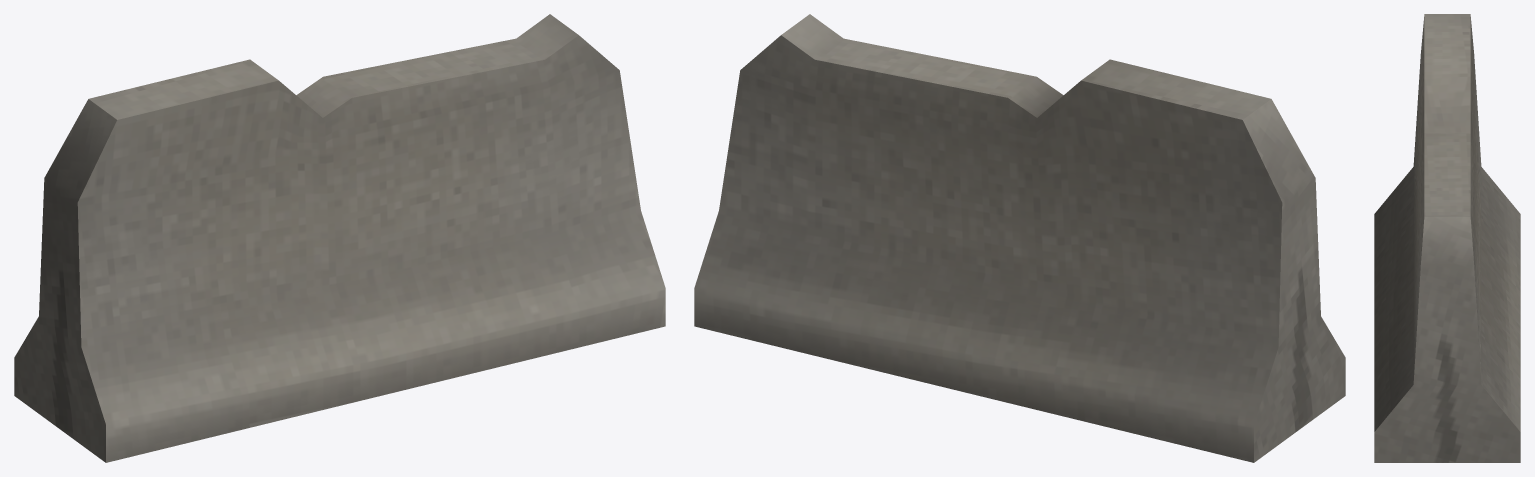
Rendered from jerseybarrier_3.fbx.
3 views of the same model, side by side, from view 1: azimuth 30°, elevation 25°; view 2: azimuth 150°, elevation 25°; view 3: azimuth 270°, elevation 25° (orthographic). The views are drawn at different scales.
Parts seen in each view (by area): view 1: jerseybarrier3; view 2: jerseybarrier3; view 3: jerseybarrier3.
Boxes of the visible parts, x1,y1,x2,y2 form: jerseybarrier3: (14, 14, 665, 462); jerseybarrier3: (694, 14, 1345, 462); jerseybarrier3: (1374, 14, 1520, 462).
Bounding box in the file's own units: 3.61 × 1.91 × 1.02.
